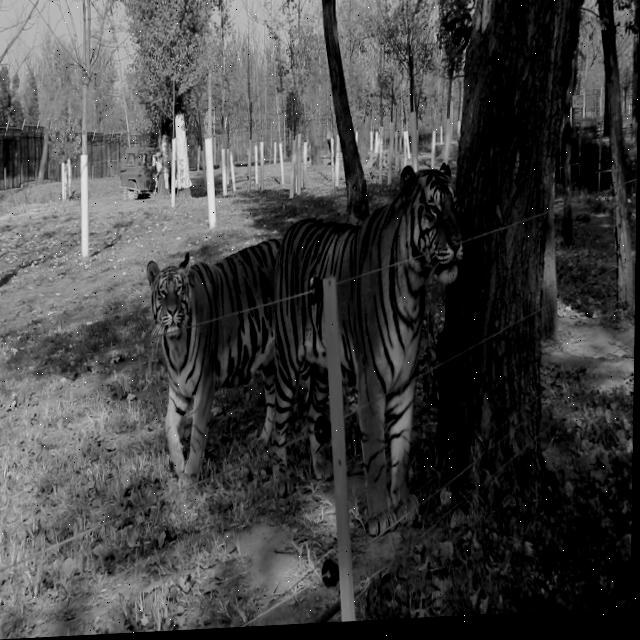Tiger: (268, 159, 465, 543), (142, 236, 283, 493)
